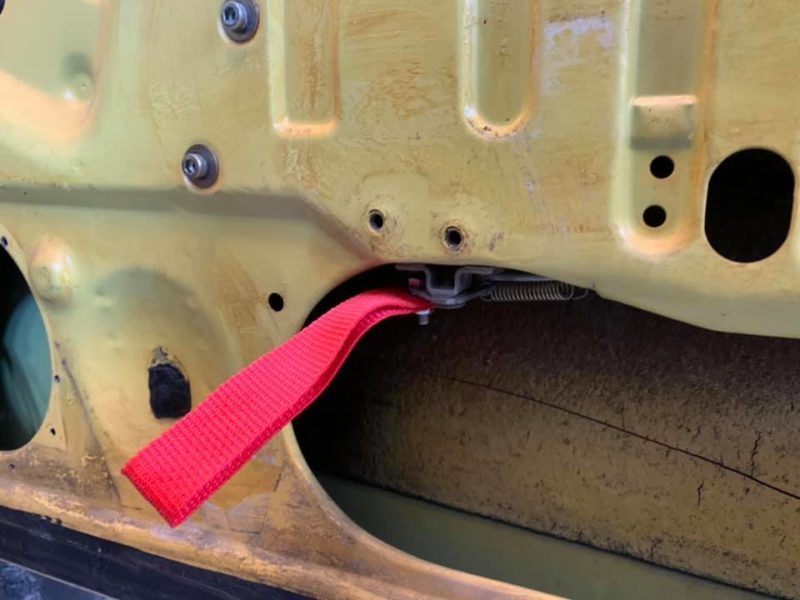bolt: (216, 2, 264, 48), (180, 141, 221, 192)
hole: (639, 204, 673, 232), (647, 152, 677, 182), (442, 225, 466, 252), (365, 207, 388, 234), (266, 289, 288, 315)
